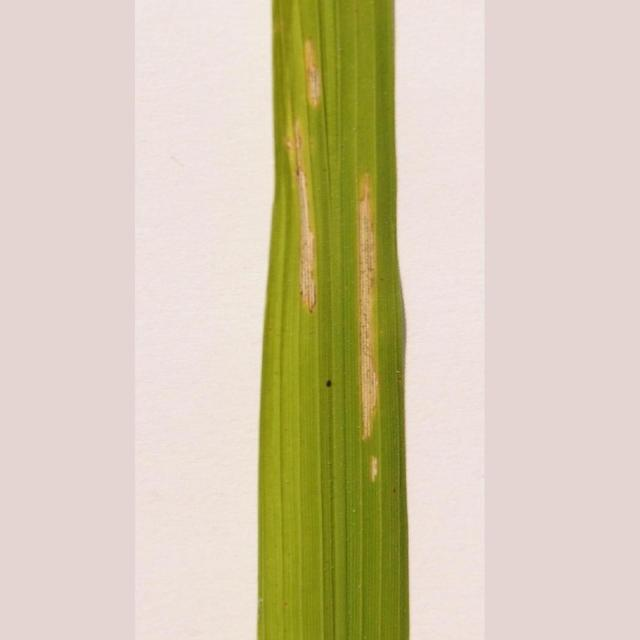Bacterial leaf blight: (354, 150, 386, 446), (282, 101, 322, 321), (300, 36, 336, 126), (360, 449, 388, 494)
